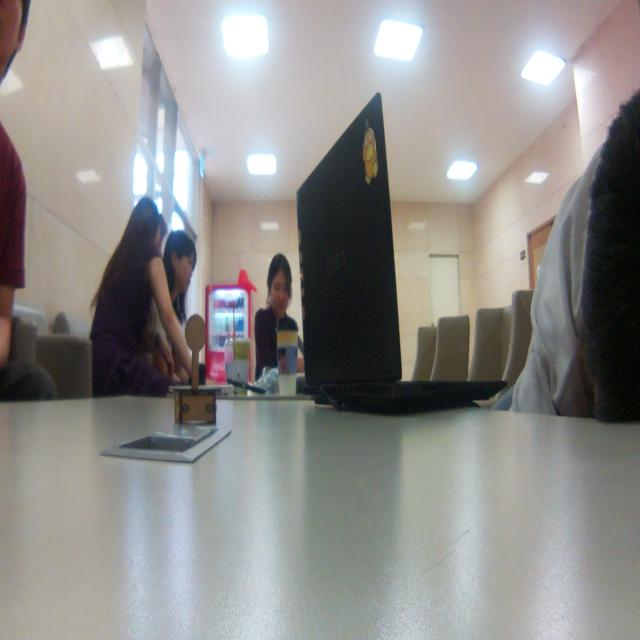target: (172, 314, 216, 426)
